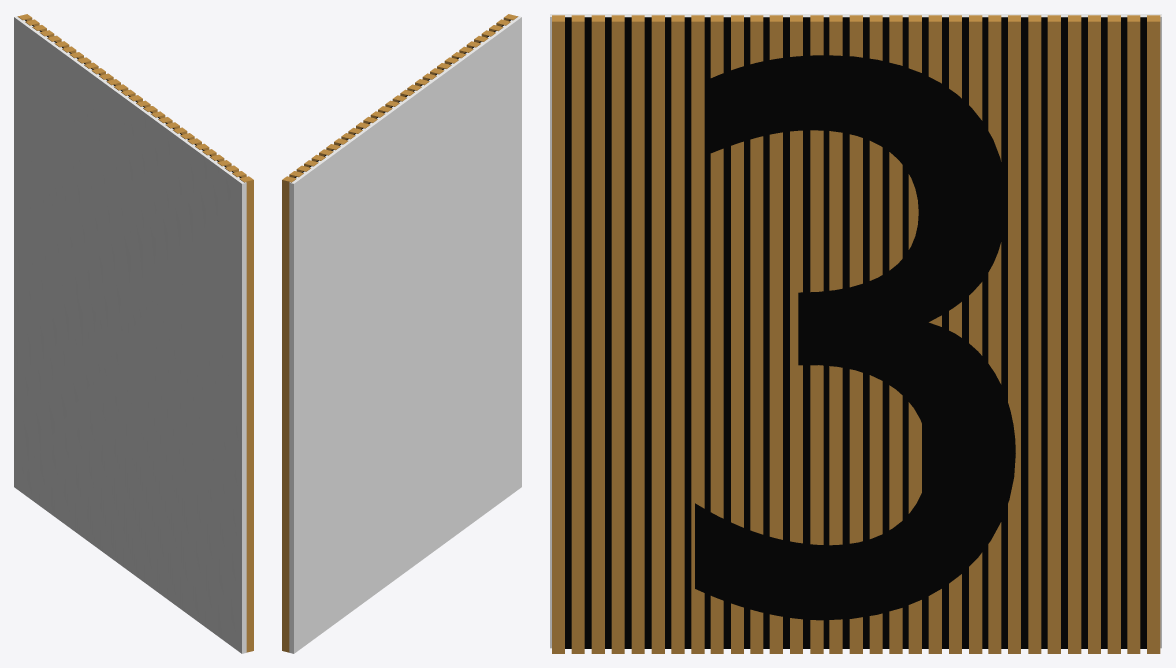
File: 3 sal.fbx
The picture shows the model from 3 angles, left to right: view 1: azimuth 30°, elevation 25°; view 2: azimuth 150°, elevation 25°; view 3: azimuth 270°, elevation 25°; orthographic projection. The views are drawn at different scales.
Parts seen in each view (by area): view 1: Cube.002, Cube.003; view 2: Cube.002, Cube.032; view 3: Cube, Text, Cube.032, Cube.031, Cube.030, Cube.028, Cube.027, Cube.026, Cube.009, Cube.008, Cube.007, Cube.006 (+22 smaller).
Part boxes in pixels (x1=…): Cube.002: x1=14, y1=16, x2=246, y2=653; Cube.003: x1=239, y1=176, x2=253, y2=652; Cube.002: x1=289, y1=16, x2=521, y2=653; Cube.032: x1=282, y1=176, x2=296, y2=652; Cube: x1=565, y1=17, x2=1146, y2=648; Text: x1=695, y1=55, x2=1015, y2=620; Cube.032: x1=1147, y1=15, x2=1160, y2=653; Cube.031: x1=1127, y1=15, x2=1140, y2=653; Cube.030: x1=1107, y1=15, x2=1120, y2=653; Cube.028: x1=1068, y1=15, x2=1081, y2=653; Cube.027: x1=1047, y1=15, x2=1060, y2=653; Cube.026: x1=1028, y1=15, x2=1041, y2=653; Cube.009: x1=671, y1=15, x2=684, y2=653; Cube.008: x1=651, y1=15, x2=664, y2=653; Cube.007: x1=631, y1=15, x2=644, y2=653; Cube.006: x1=611, y1=15, x2=624, y2=653.
Size of the model in its own units: 27.92 by 940 by 824.
